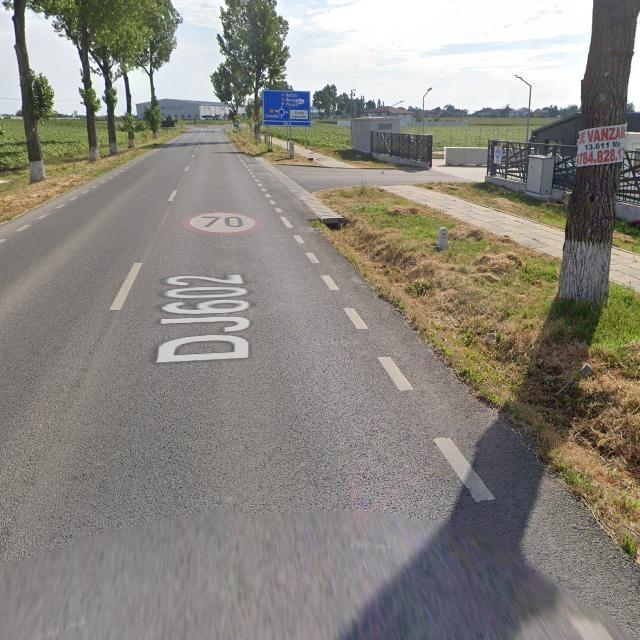forb_speed_over_70: (182, 210, 262, 237)
